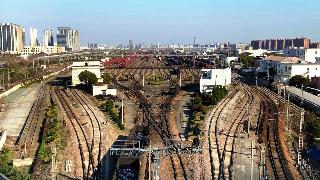train: (113, 125, 151, 180), (169, 84, 181, 95)
